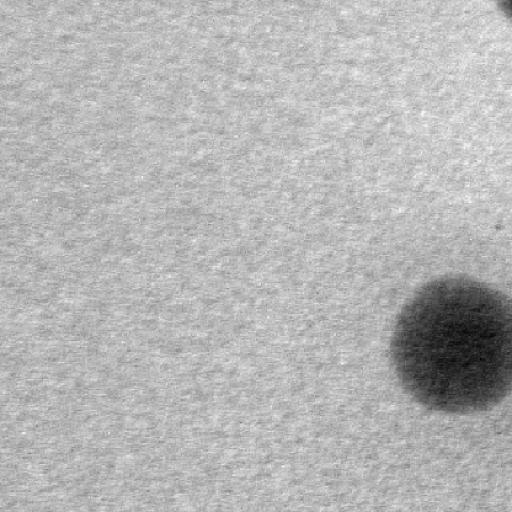Nanoparticles: (389, 276, 512, 413)
